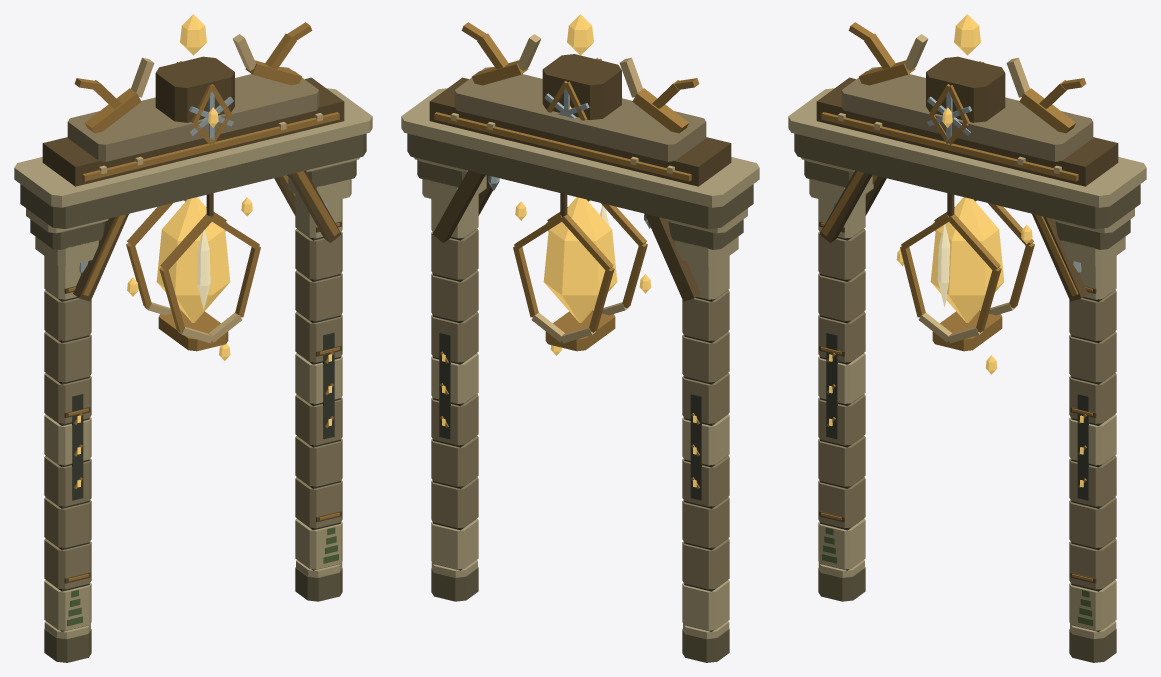
The model's file is beacon-kit.glb.
The picture shows the model from 3 angles, left to right: view 1: azimuth 30°, elevation 25°; view 2: azimuth 150°, elevation 25°; view 3: azimuth 330°, elevation 25°; orthographic projection.
Visible parts, largest first — view 1: beacon-amberwild-frame, beacon-amberwild-light, beacon-frostmarch-frame; view 2: beacon-amberwild-frame, beacon-amberwild-light, beacon-frostmarch-frame; view 3: beacon-amberwild-frame, beacon-amberwild-light, beacon-frostmarch-frame.
Boxes of the visible parts, x1,y1,x2,y2 form: beacon-amberwild-frame: (14,22,372,662); beacon-amberwild-light: (77,14,331,487); beacon-frostmarch-frame: (79,92,327,274); beacon-amberwild-frame: (401,22,759,662); beacon-amberwild-light: (442,14,696,487); beacon-frostmarch-frame: (488,89,650,228); beacon-amberwild-frame: (788,22,1146,662); beacon-amberwild-light: (829,14,1083,487); beacon-frostmarch-frame: (833,92,1081,274).
Bounding box in the file's own units: 2.56 × 4.63 × 0.62.
